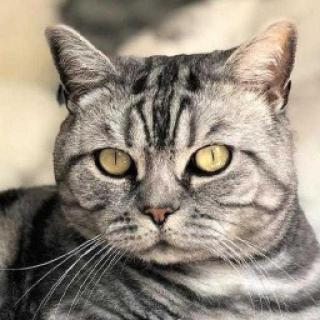cat: (42, 21, 297, 273)
nose: (135, 192, 177, 226)
